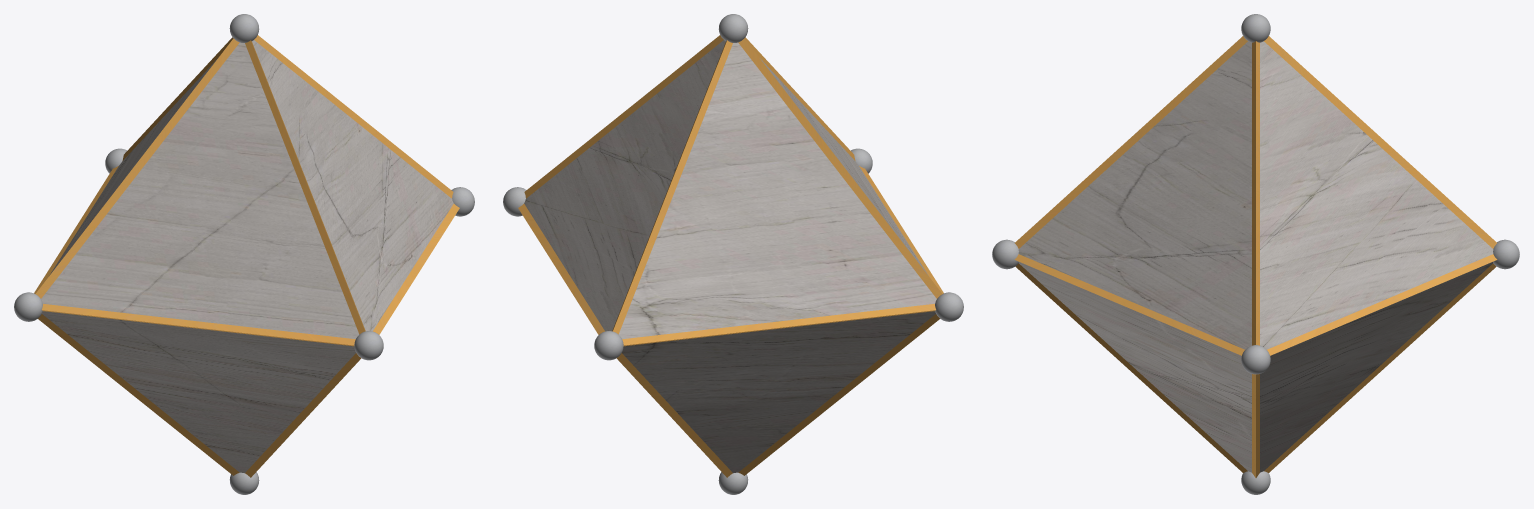
The model's file is octaedrov2.glb.
3 views of the same model, side by side, from view 1: azimuth 30°, elevation 25°; view 2: azimuth 150°, elevation 25°; view 3: azimuth 270°, elevation 25° (orthographic).
Parts seen in each view (by area): view 1: Octaedro, Octaedro.001, Sphere.017, Sphere.013, Sphere.012, Sphere.016, Sphere.014; view 2: Octaedro, Octaedro.001, Sphere.015, Sphere.013, Sphere.012, Sphere.016, Sphere.014; view 3: Octaedro, Octaedro.001, Sphere.014, Sphere.012, Sphere.015, Sphere.017, Sphere.016.
Part boxes in pixels (box(x1,y1,x2,y2)): Octaedro: box(41, 40, 453, 473); Octaedro.001: box(34, 35, 459, 477); Sphere.017: box(354, 331, 383, 360); Sphere.013: box(14, 292, 42, 321); Sphere.012: box(229, 14, 259, 42); Sphere.016: box(229, 472, 259, 494); Sphere.014: box(451, 187, 474, 216); Octaedro: box(524, 40, 936, 473); Octaedro.001: box(518, 35, 943, 477); Sphere.015: box(594, 331, 623, 360); Sphere.013: box(935, 292, 963, 321); Sphere.012: box(718, 14, 748, 42); Sphere.016: box(718, 472, 748, 494); Sphere.014: box(503, 187, 526, 216); Octaedro: box(1018, 41, 1493, 472); Octaedro.001: box(1014, 36, 1497, 477); Sphere.014: box(1241, 345, 1270, 374); Sphere.012: box(1241, 14, 1270, 42); Sphere.015: box(1493, 239, 1519, 269); Sphere.017: box(992, 239, 1018, 269); Sphere.016: box(1241, 471, 1270, 494).
Bounding box in the file's own units: 2.12 × 2.12 × 2.12.
8 materials, 8 textured.
